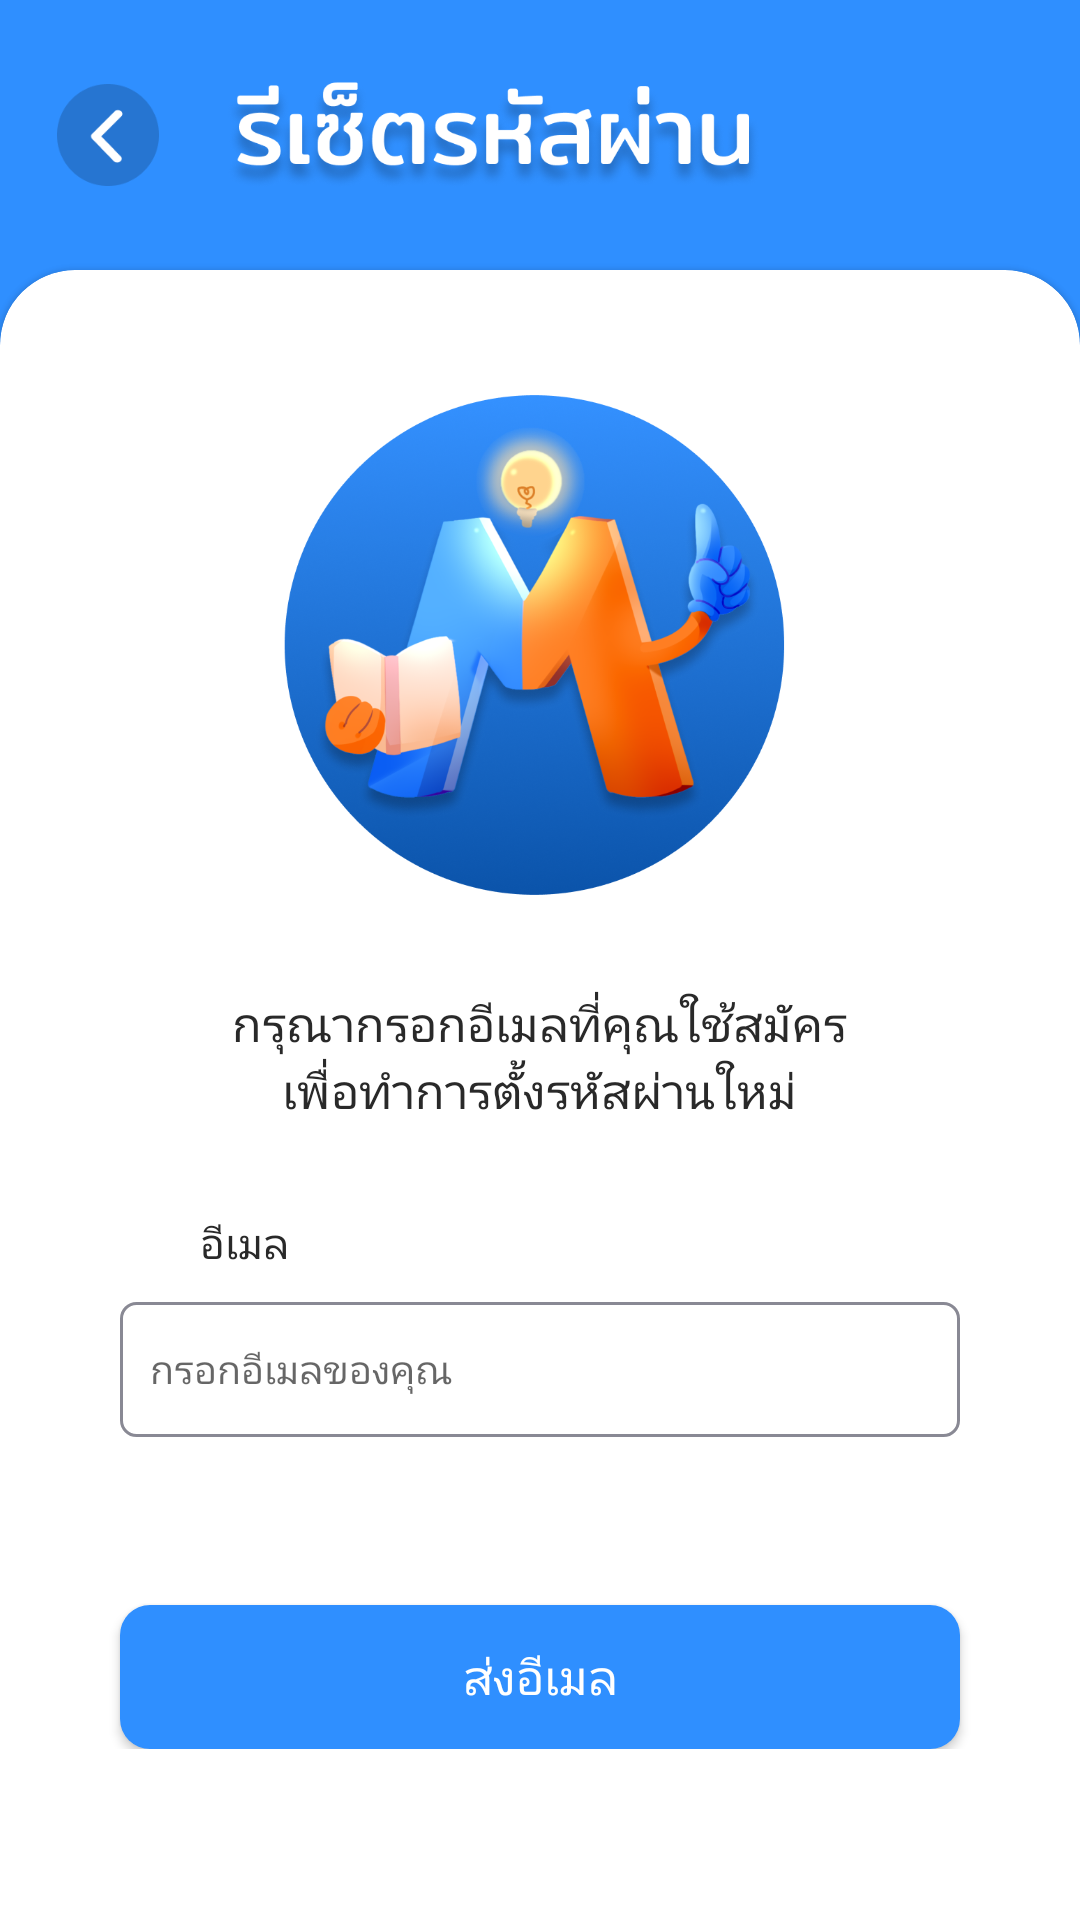

Icons on this 1080w x 1920h Android screen, each with the point to tap as (x,y):
back circle: (108,135)
